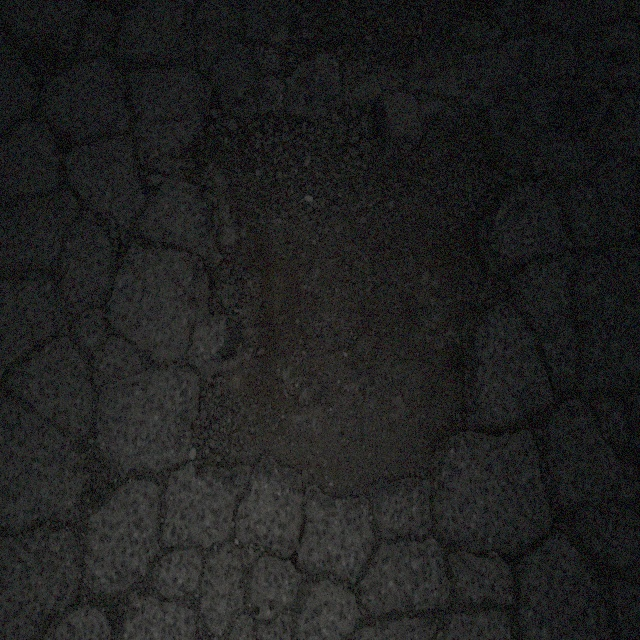pothole: (183, 80, 508, 511)
